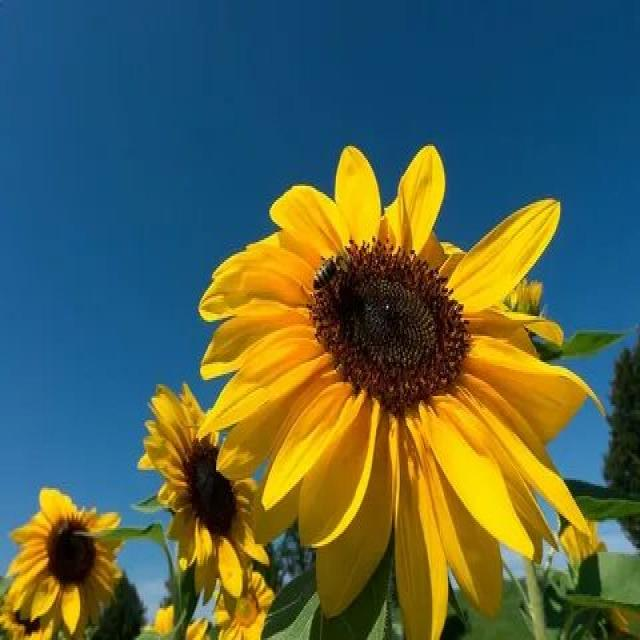sunflower: (192, 136, 599, 618), (132, 372, 269, 606), (7, 470, 128, 640)
